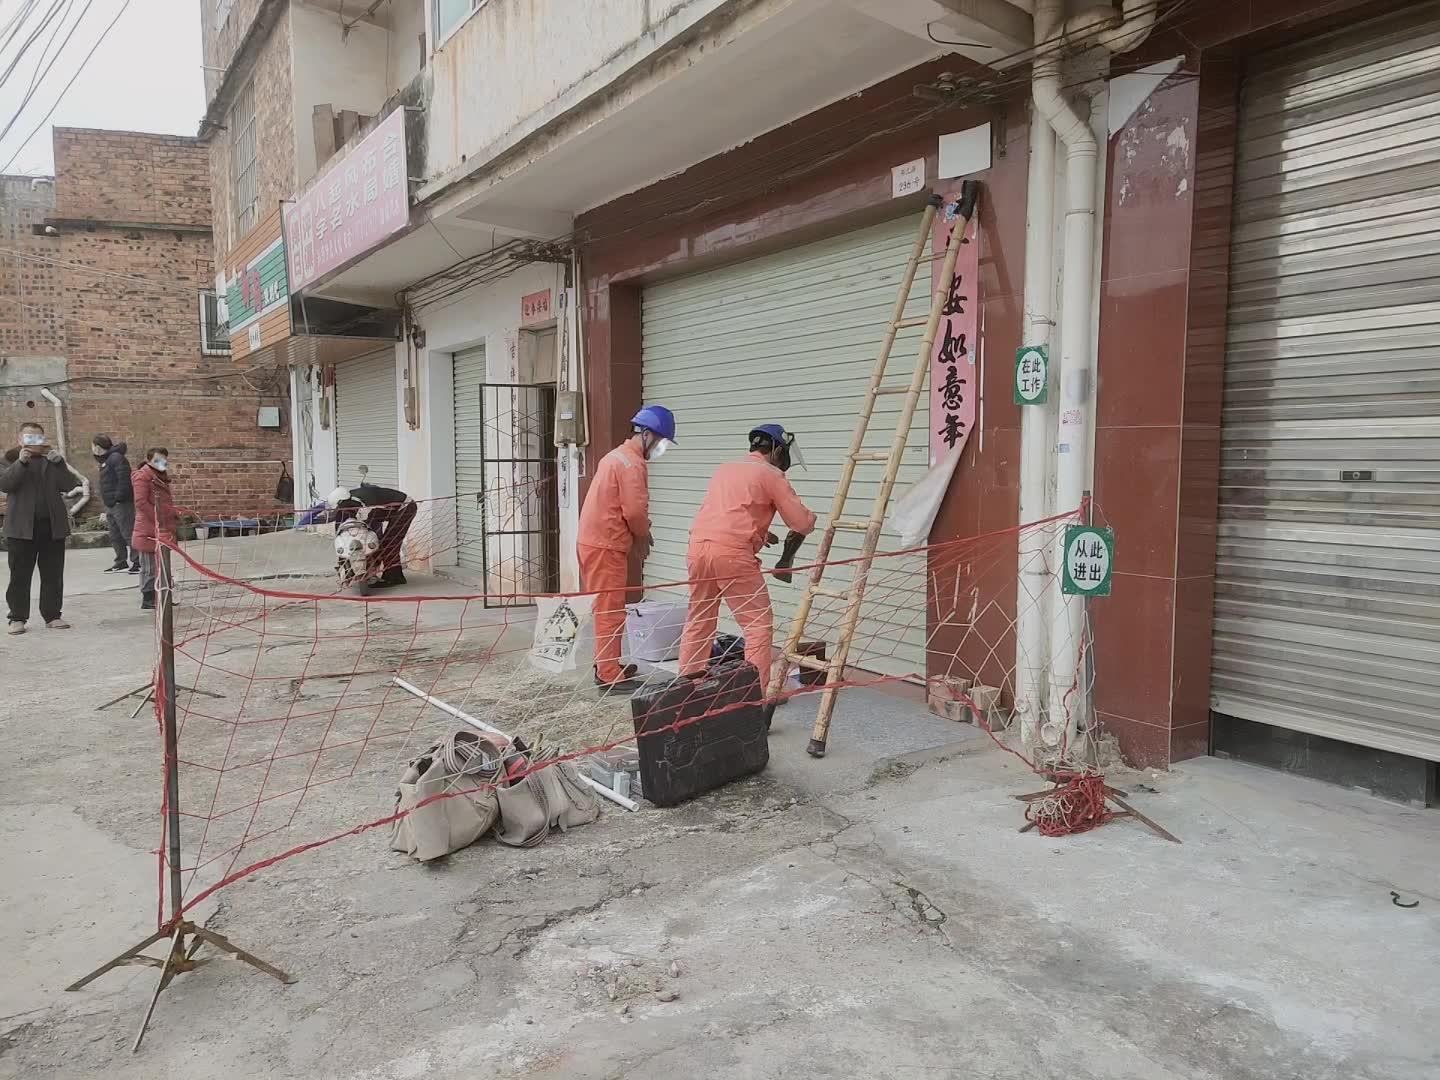halt: (630, 406, 678, 458), (749, 425, 794, 470)
inear: (639, 427, 661, 456)
unhalt: (19, 430, 50, 459), (92, 434, 115, 458), (149, 448, 171, 472)
